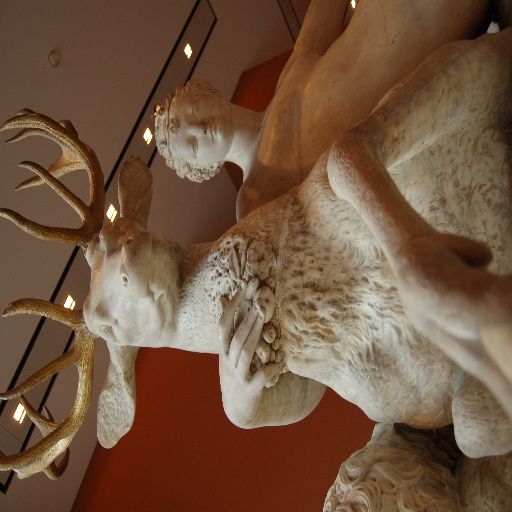hand: (219, 286, 282, 409)
